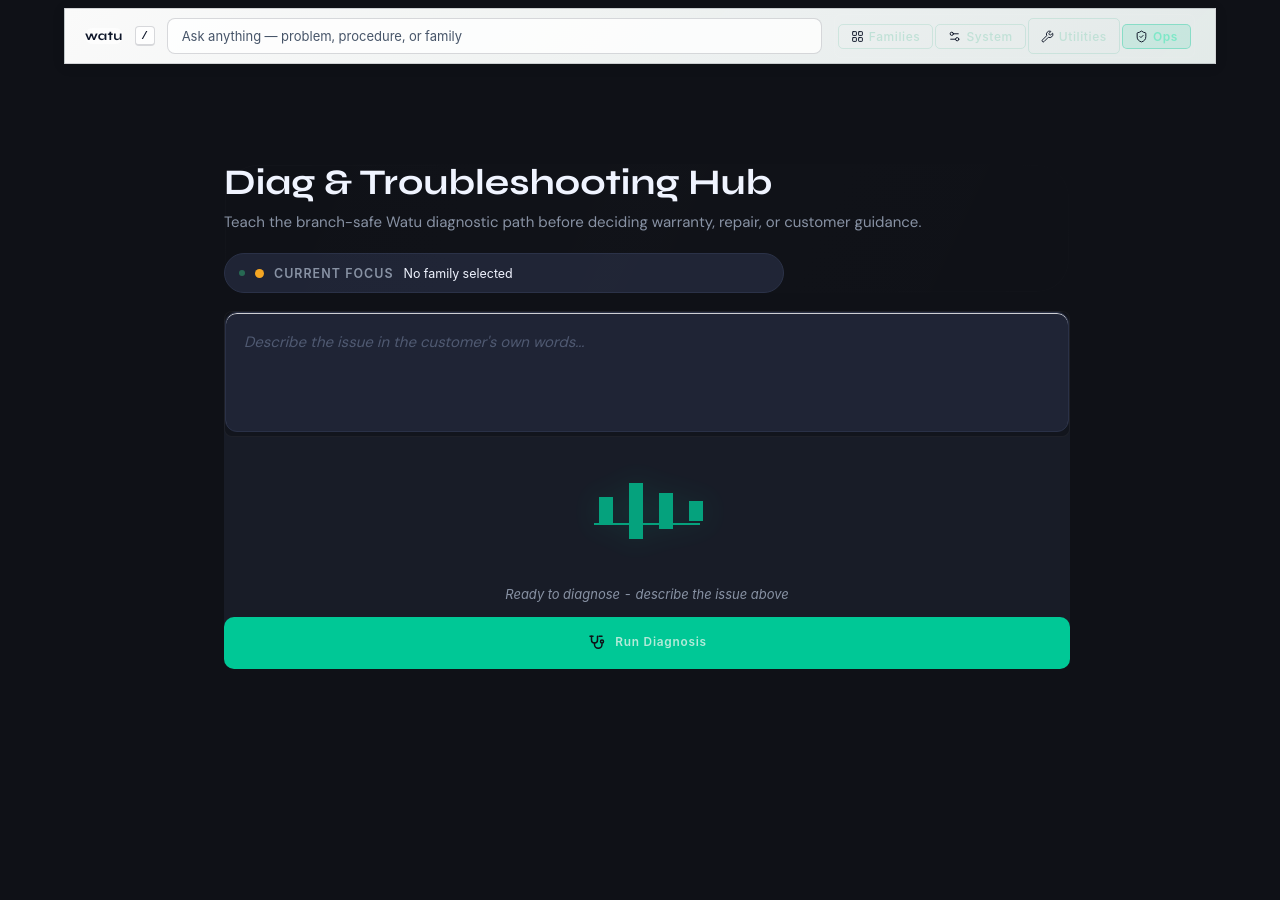
Test: HomePage › keeps the command palette action list free of unavailable duplicate starts
Click the field named "global search" at (494, 36), box [167,18,822,54]
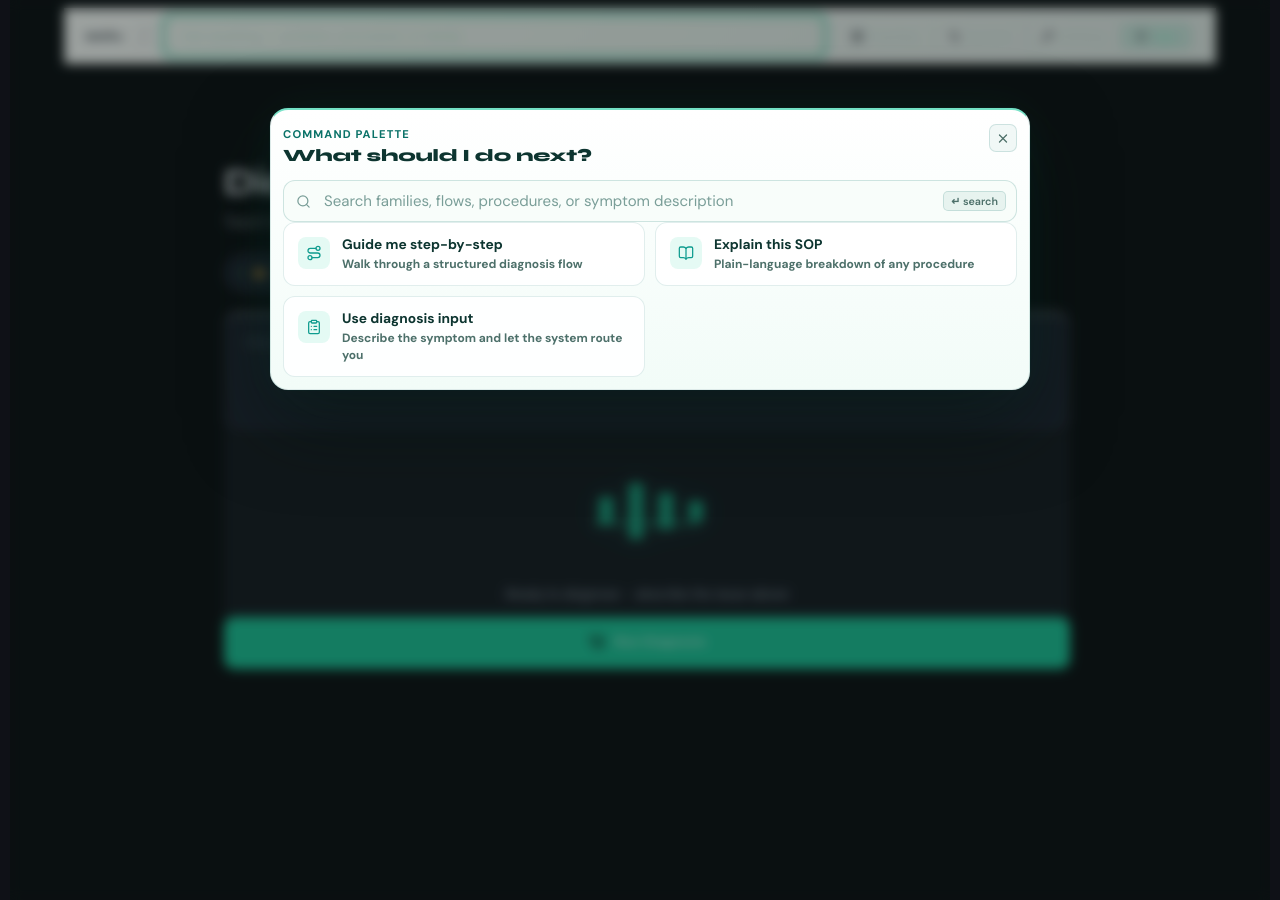
Expected: the button "Use diagnosis input" is shown
Click the button "Use diagnosis input" at (464, 337), box [283,296,645,377]
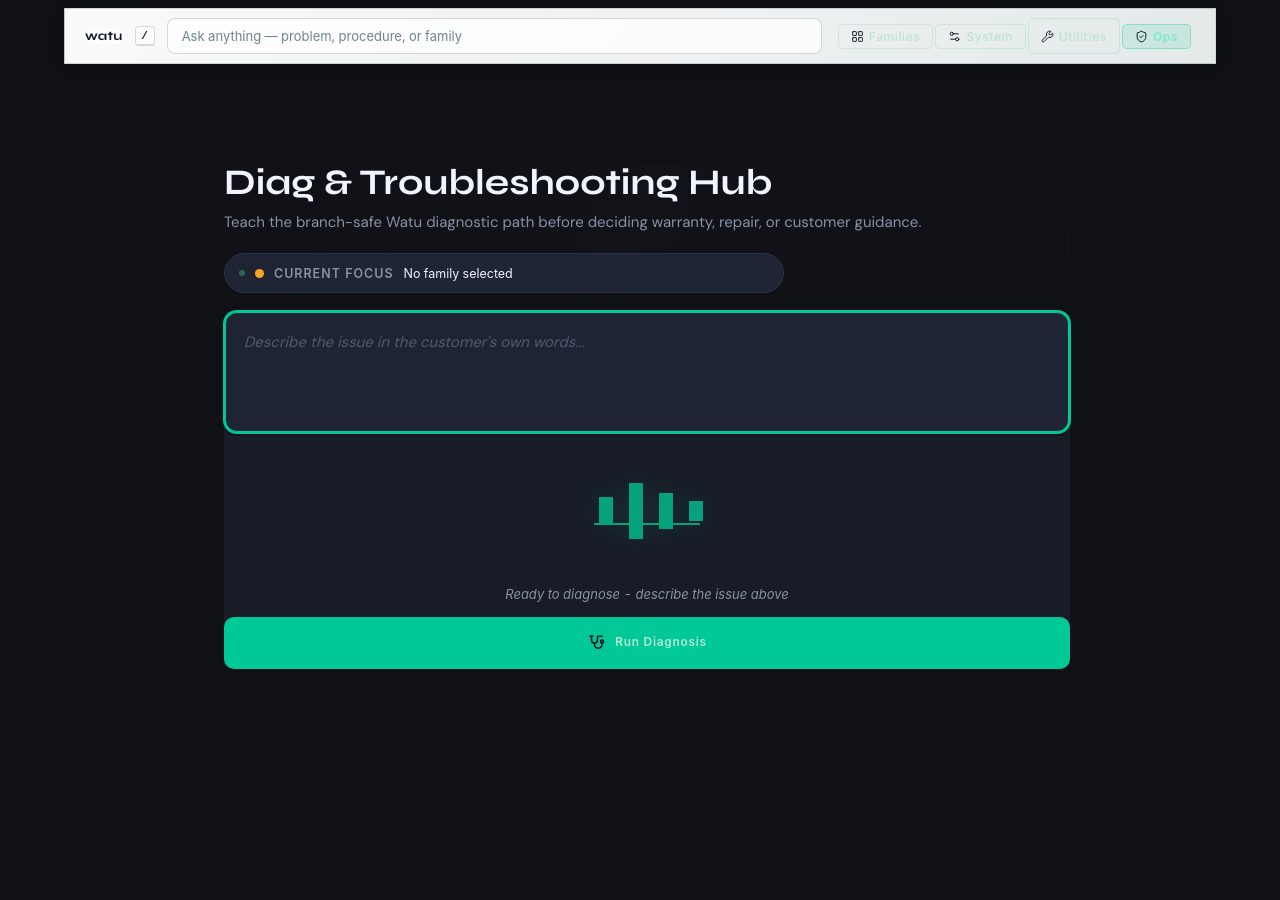
Expected: the dialog is gone
